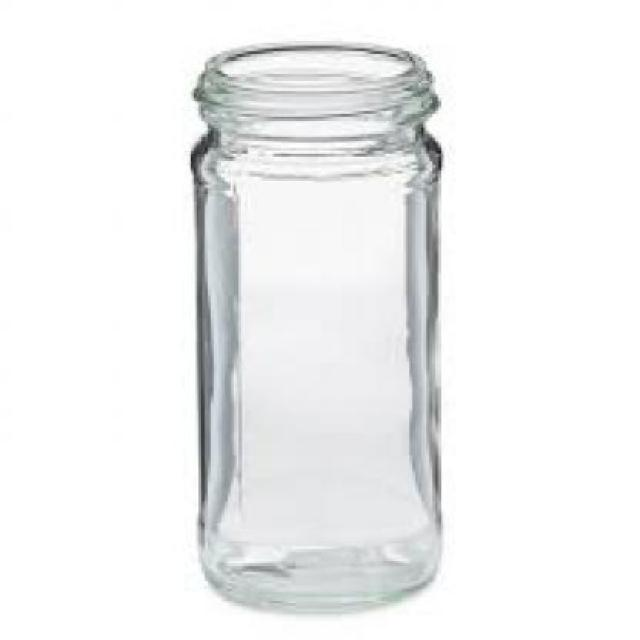kaca: (188, 40, 442, 611)
